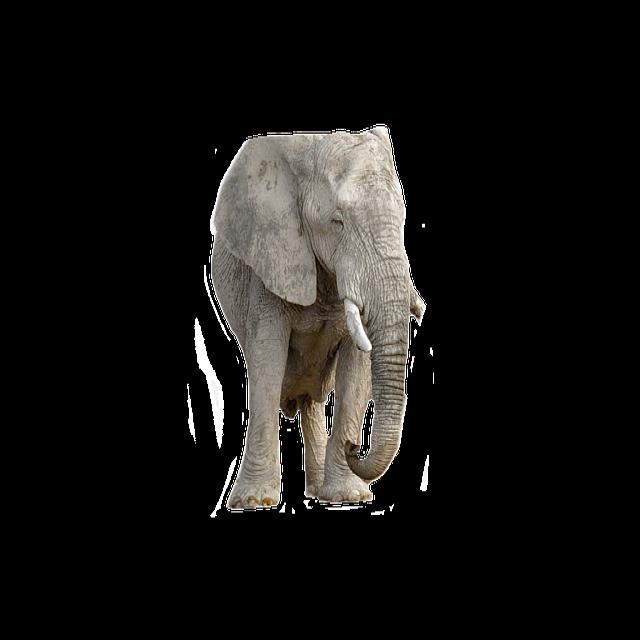FIL: (212, 115, 424, 518)
